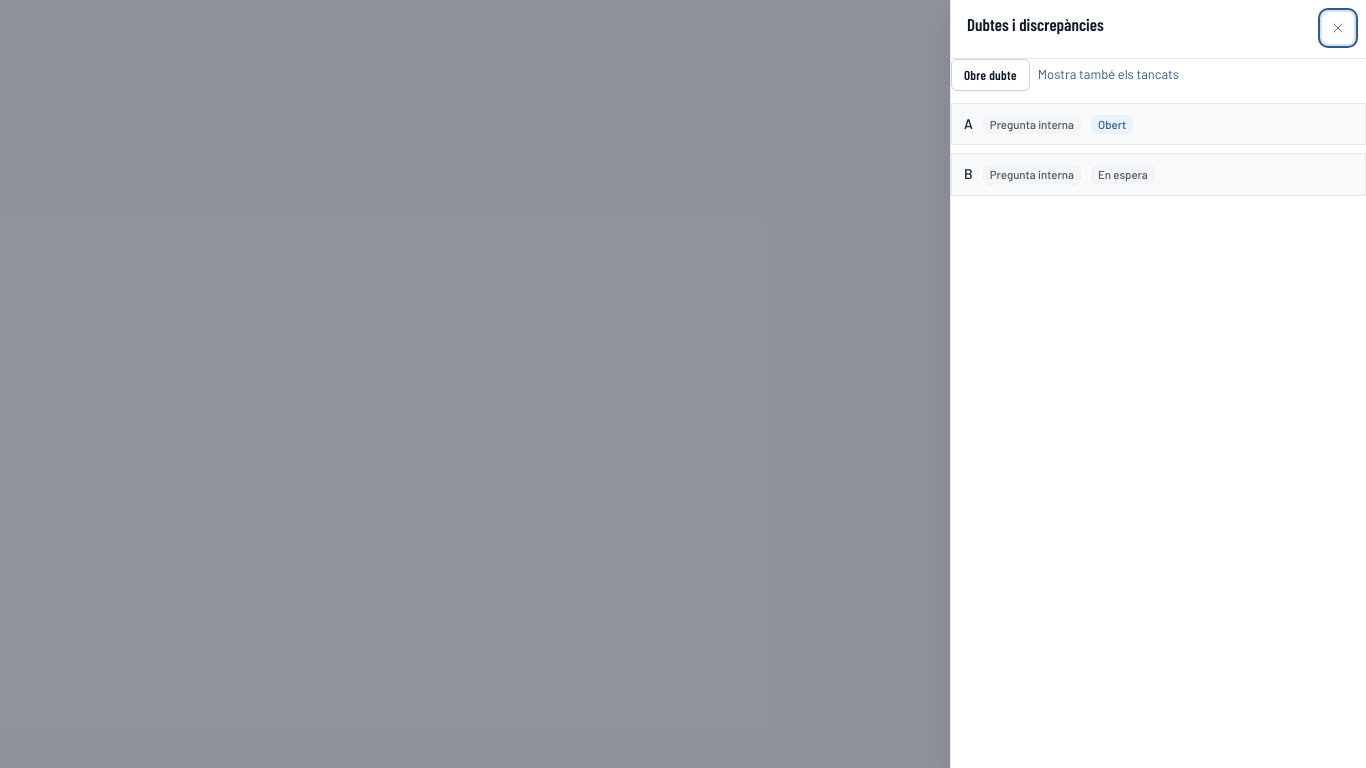
els quatre estats es llegeixen diferent
The width and height of the screenshot is (1366, 768).
What coordinates should you click on to do the following:
click the button "Mostra també els tancats"
I would click on:
 (1108, 75)
Its box is [1038, 65, 1179, 85].
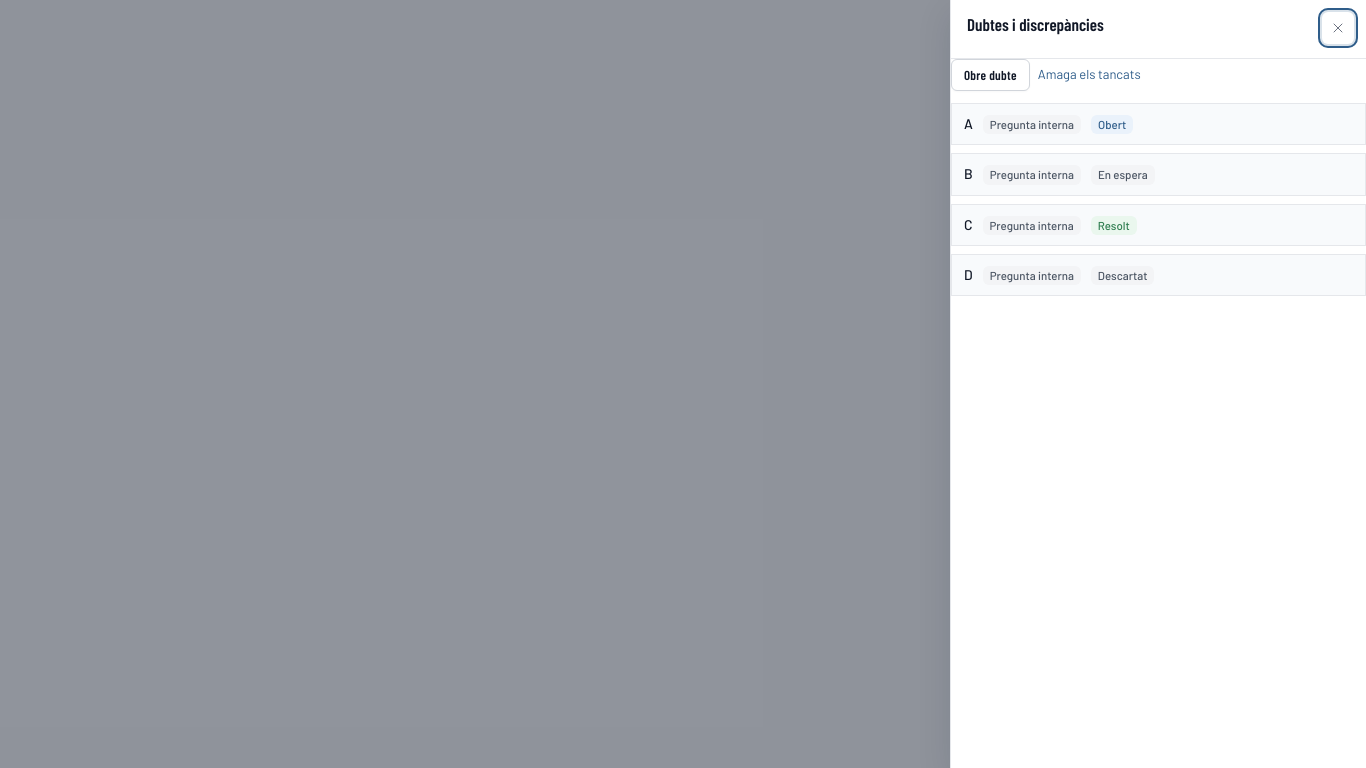
Expected: the text "Obert" is shown, [1091, 115, 1133, 134]
Result: the text "Resolt" is shown at [1091, 216, 1137, 235]
Result: the text "Descartat" is shown at [1091, 266, 1154, 285]
